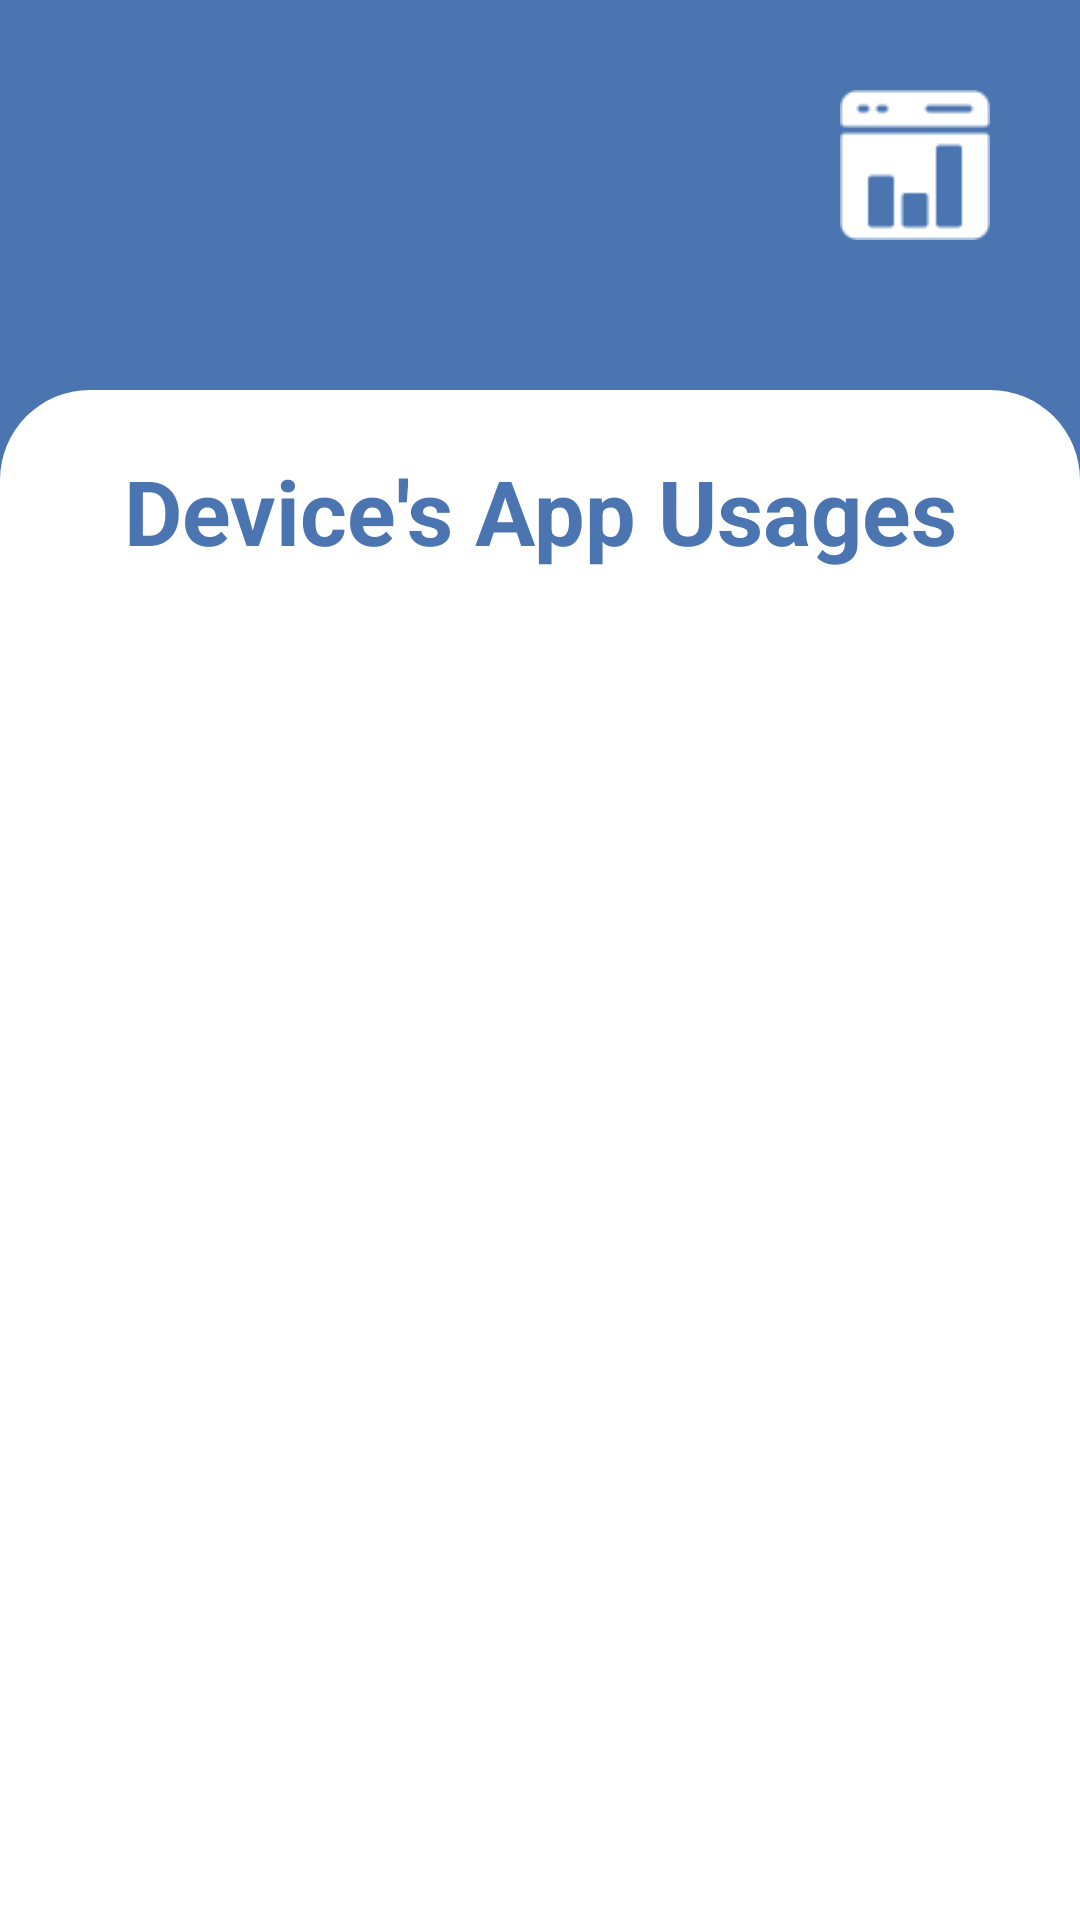

Named icons in this screenshot (1080w x 1920h) and their centers, (x,y):
usage analytics: (915,165)
